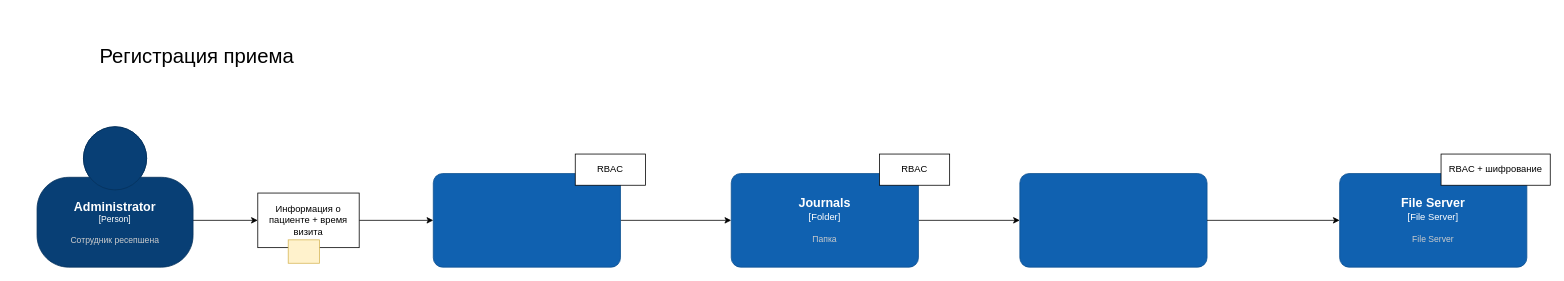
Some shapes in this 1564 by 281 pixel diagram are drawn without their labels. Each missing label, with the centre of its shape:
"File System [File System] File System" belongs at (x=1113, y=220).
"Journal-Doctor-FIO [Excel file] Журнал записей к одному врачу" belongs at (x=526, y=220).
"PII" belongs at (x=303, y=251).
